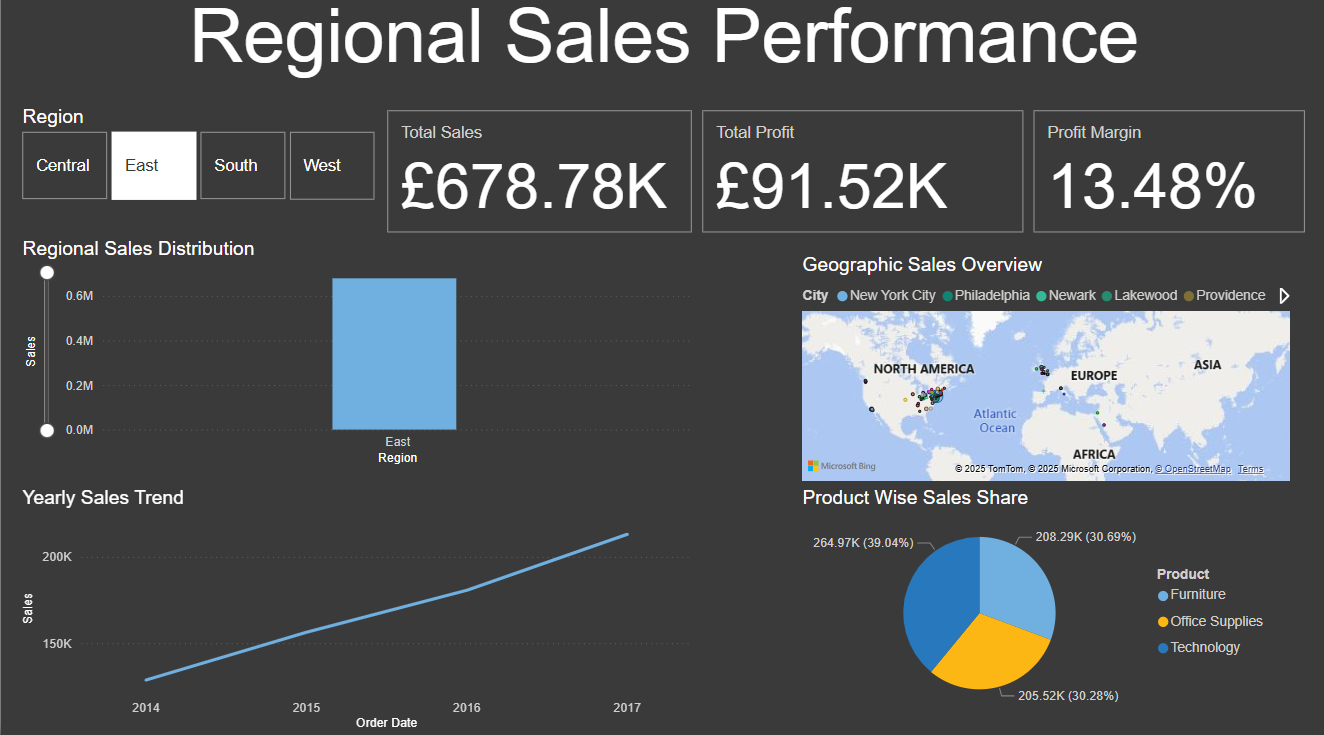

What the dashboard file says about the page in this screenshot:
{"tool":"powerbi","page":{"name":"Sales Performance Dashboard","canvas":[1280,720],"ordinal":0},"visuals":[{"type":"group","id":"g1","title":"Group 1","box":[368,112,896,336],"z":0},{"type":"cardVisual","fields":{"Data":["Sample_ Superstore.Total Sales"]},"box":[368,112,304,128],"z":0,"group":"g2"},{"type":"cardVisual","fields":{"Data":["Sample_ Superstore.Total Profit"]},"box":[672,112,320,128],"z":1000,"group":"g2"},{"type":"columnChart","title":" Regional Sales Distribution","fields":{"Category":["Sample_ Superstore.Region"],"Y":["Sum(Sample_ Superstore.Sales)"]},"box":[16,240,656,224],"z":1000},{"type":"cardVisual","fields":{"Data":["Sample_ Superstore.Profit Margin"]},"box":[992,112,272,128],"z":2000,"group":"g2"},{"type":"pieChart","title":"Product Wise Sales Share","fields":{"Y":["Sum(Sample_ Superstore.Sales)"],"Series":["Sample_ Superstore.Category"]},"box":[768,480,464,224],"z":2000},{"type":"group","id":"g2","title":"Group 4","box":[368,112,896,128],"z":2002,"group":"g1"},{"type":"textbox","box":[0,0,1280,96],"z":3000},{"type":"textbox","box":[400,290.8,254.6,157.2],"z":3000,"group":"g1"},{"type":"lineChart","title":"Yearly Sales Trend","fields":{"Y":["Sum(Sample_ Superstore.Sales)"],"Category":["Sample_ Superstore.Order Date"]},"box":[16,480,656,240],"z":4000},{"type":"map","title":"Geographic Sales Overview","fields":{"Category":["Sample_ Superstore.City"],"Size":["Sum(Sample_ Superstore.Sales)"],"Series":["Sample_ Superstore.City"]},"box":[768,256,480,224],"z":5000},{"type":"advancedSlicerVisual","fields":{"Values":["Sample_ Superstore.Region"]},"box":[32,112,336,96],"z":6000}]}

Visuals, with their boxes in screenshot pixels (x1, y1, x2, y2), scaled from the page's 1280x720 canvas onto the 1324x735 screenshot:
"Group 1" group: left=381, top=114, right=1307, bottom=457
cardVisual - Sample_ Superstore.Total Sales: left=381, top=114, right=695, bottom=245
cardVisual - Sample_ Superstore.Total Profit: left=695, top=114, right=1026, bottom=245
" Regional Sales Distribution" columnChart: left=17, top=245, right=695, bottom=474
cardVisual - Sample_ Superstore.Profit Margin: left=1026, top=114, right=1307, bottom=245
"Product Wise Sales Share" pieChart: left=794, top=490, right=1274, bottom=719
"Group 4" group: left=381, top=114, right=1307, bottom=245
textbox: left=0, top=0, right=1323, bottom=98
textbox: left=414, top=297, right=677, bottom=457
"Yearly Sales Trend" lineChart: left=17, top=490, right=695, bottom=734
"Geographic Sales Overview" map: left=794, top=261, right=1291, bottom=490
advancedSlicerVisual - Sample_ Superstore.Region: left=33, top=114, right=381, bottom=212
